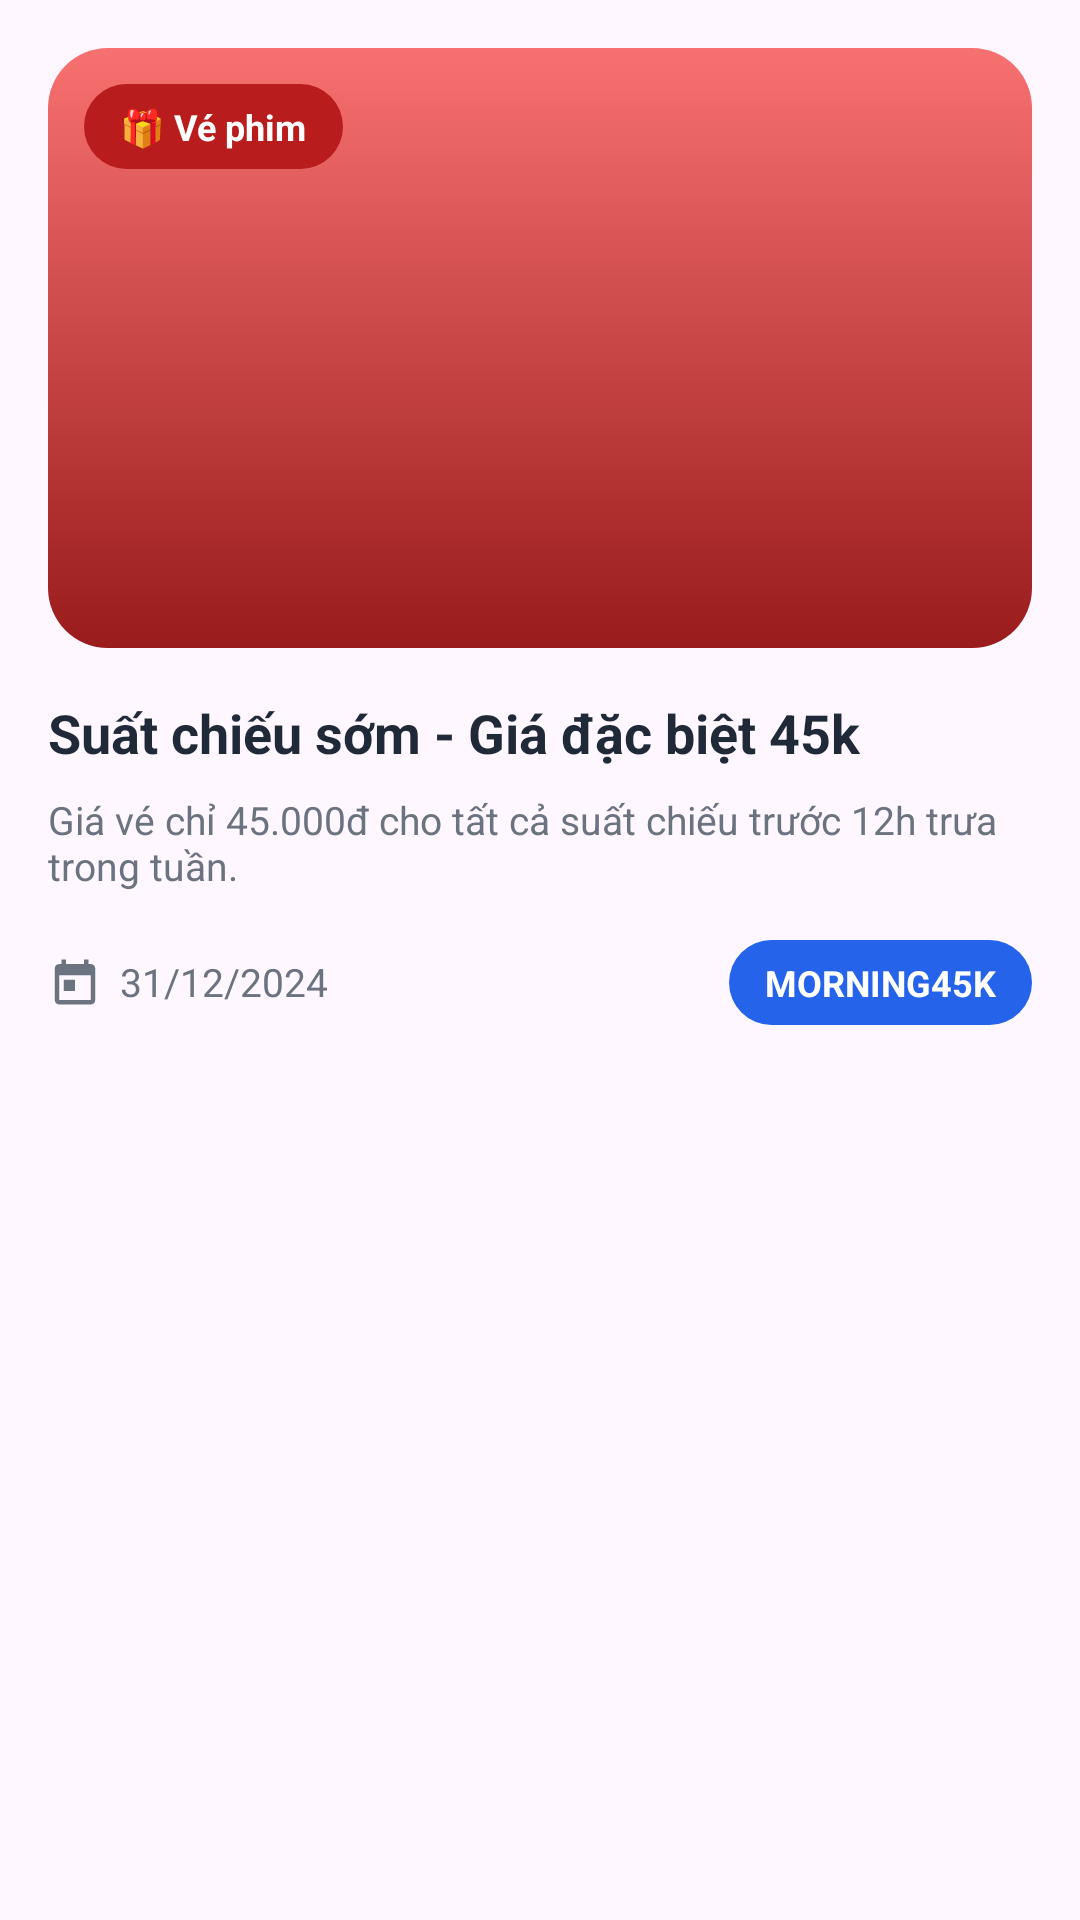

Locate icon controls on the screen. Image size 1080 x 1920, boxes as region(x1, y1, x2, y2).
calendar: region(54, 959, 96, 1005)
